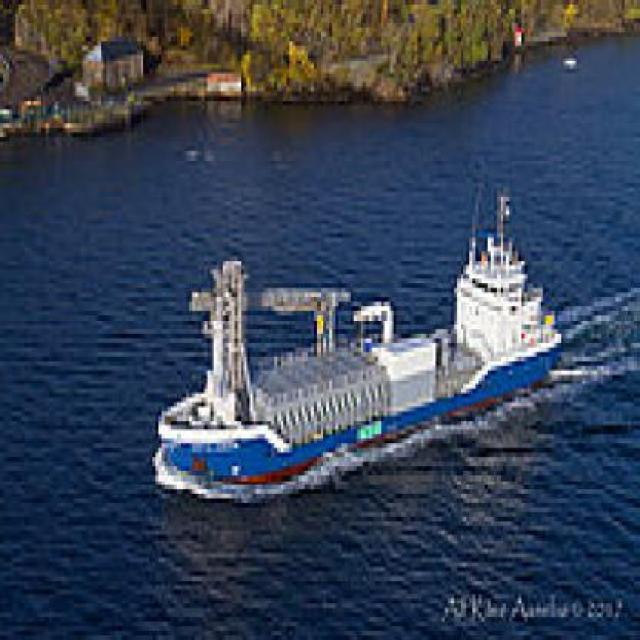container: (127, 170, 590, 541)
